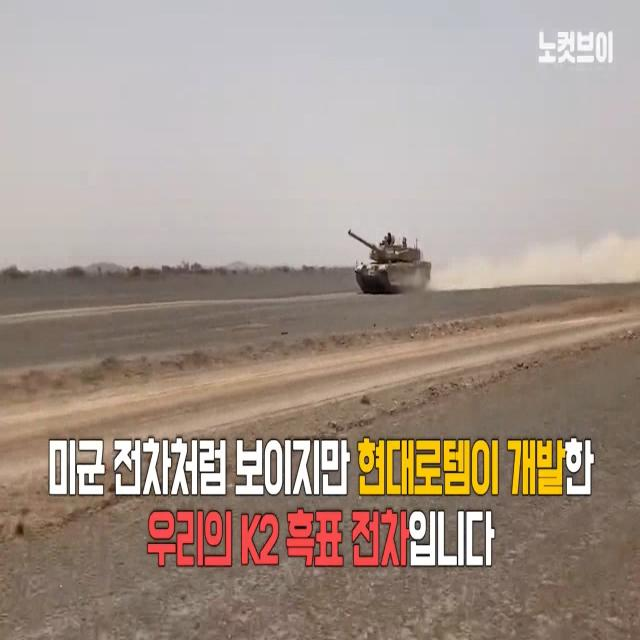korea tank: (347, 228, 433, 294)
